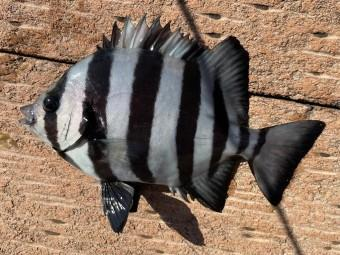fish: (23, 15, 324, 231)
